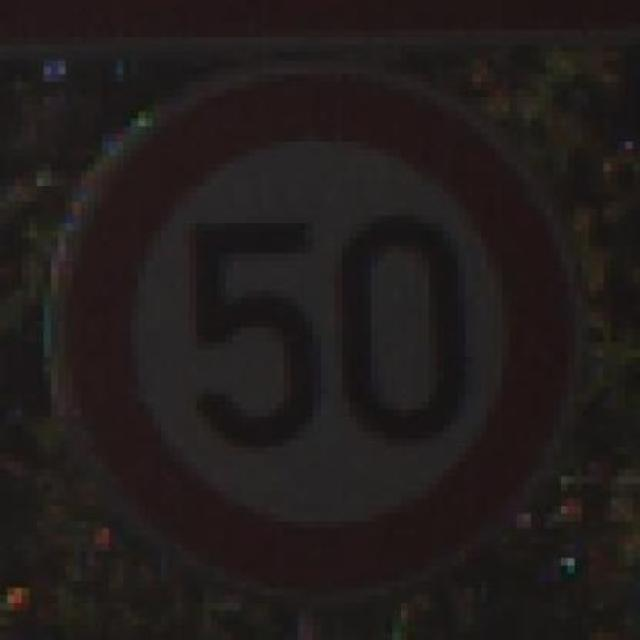50 mph speed limit: (50, 67, 568, 588)
